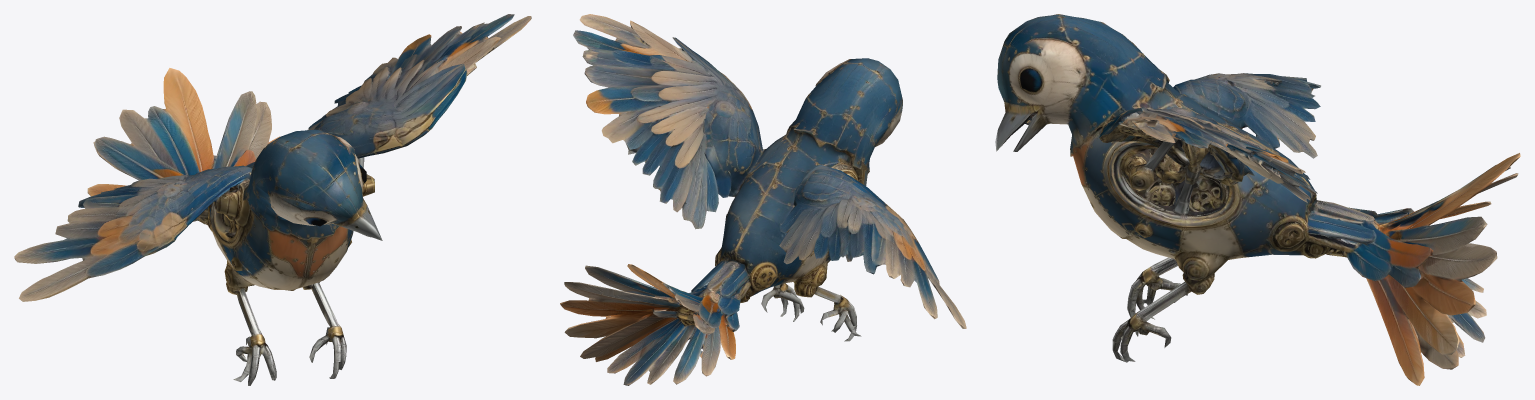
The model's file is bird.glb.
3 views of the same model, side by side, from view 1: azimuth 30°, elevation 25°; view 2: azimuth 150°, elevation 25°; view 3: azimuth 270°, elevation 25° (orthographic). The views are drawn at different scales.
Visible parts, largest first — view 1: Mesh_Default; view 2: Mesh_Default; view 3: Mesh_Default.
Boxes of the visible parts, x1,y1,x2,y2 form: Mesh_Default: [14, 14, 531, 385]; Mesh_Default: [560, 14, 966, 385]; Mesh_Default: [995, 14, 1520, 385].
Size of the model in its own units: 2.27 by 1.38 by 1.9.
1 material, 1 textured.
